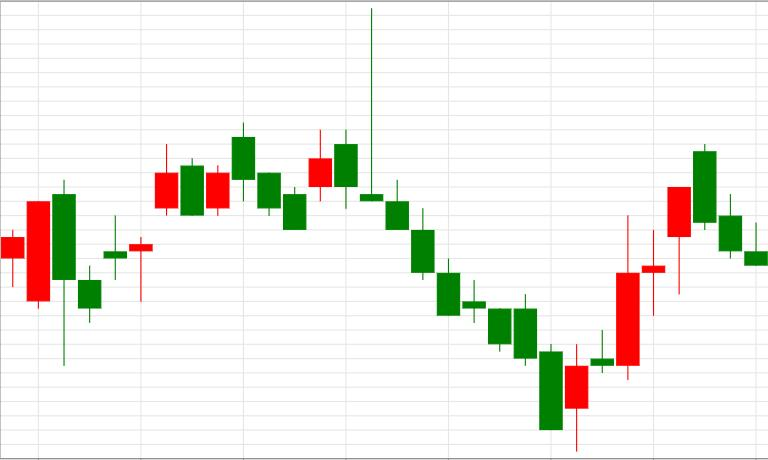hanging_man_fall: (564, 187, 691, 451)
